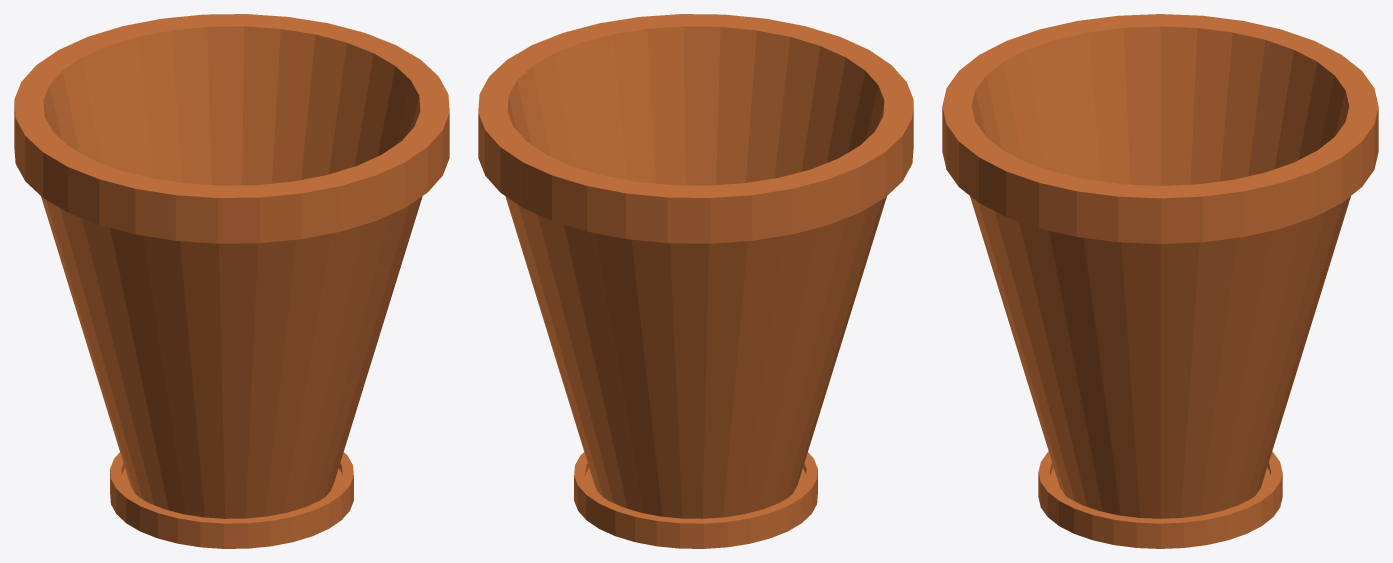
File: Plant_Pot.fbx
The picture shows the model from 3 angles, left to right: view 1: azimuth 30°, elevation 25°; view 2: azimuth 150°, elevation 25°; view 3: azimuth 270°, elevation 25°; orthographic projection.
Parts seen in each view (by area): view 1: plant_pot; view 2: plant_pot; view 3: plant_pot.
Boxes of the visible parts, x1,y1,x2,y2 form: plant_pot: [14, 14, 449, 548]; plant_pot: [478, 14, 913, 548]; plant_pot: [942, 14, 1378, 548].
Bounding box in the file's own units: 357 × 354 × 357.
